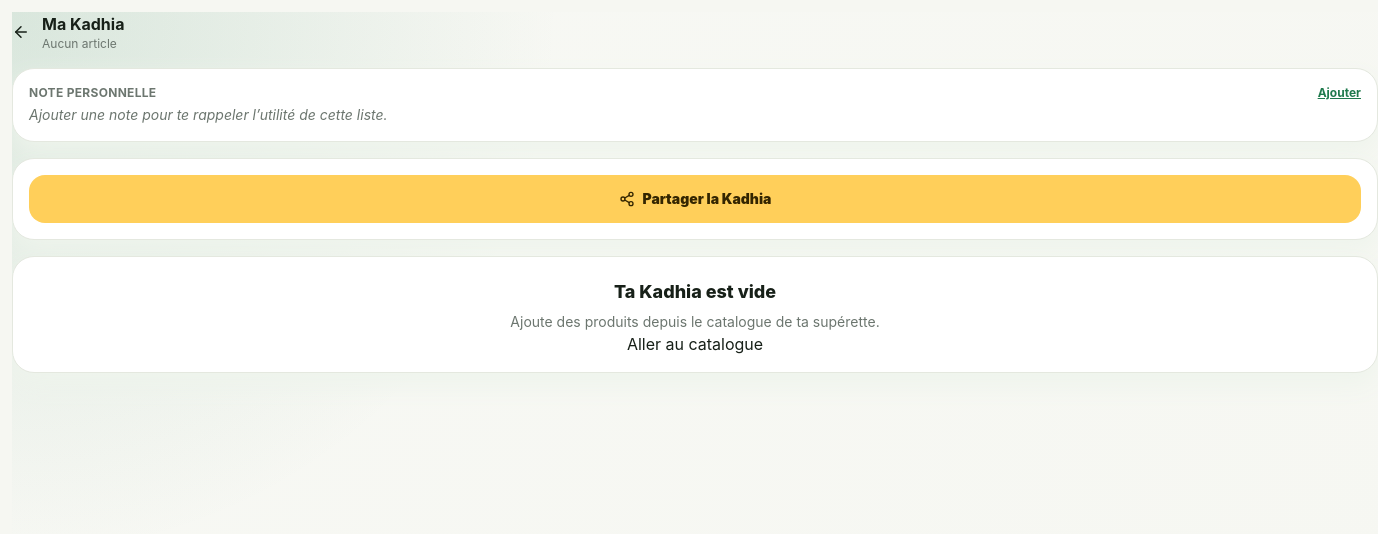
Test: KadhiaDetailPage — note personnelle › affiche une erreur si la sauvegarde échoue
Click the button "Ajouter": [1339, 93] box left=1318, top=85, right=1361, bottom=101
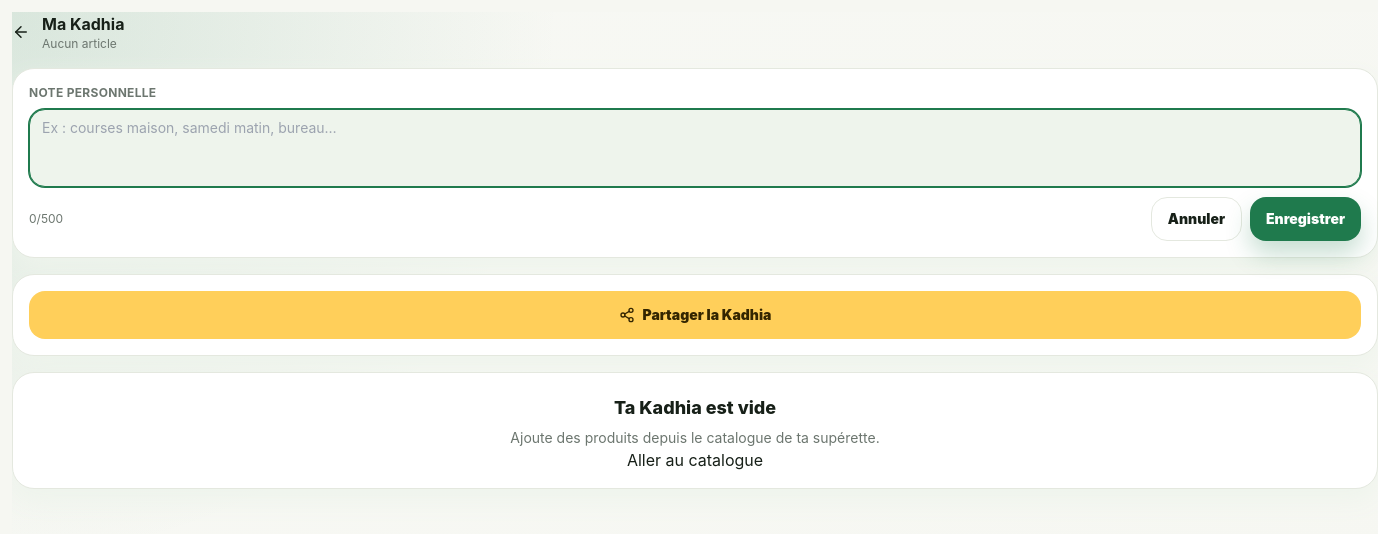
In the text box with placeholder "Ex : courses maison, samedi matin, bureau…": [695, 148] box left=29, top=109, right=1361, bottom=187, type "test"
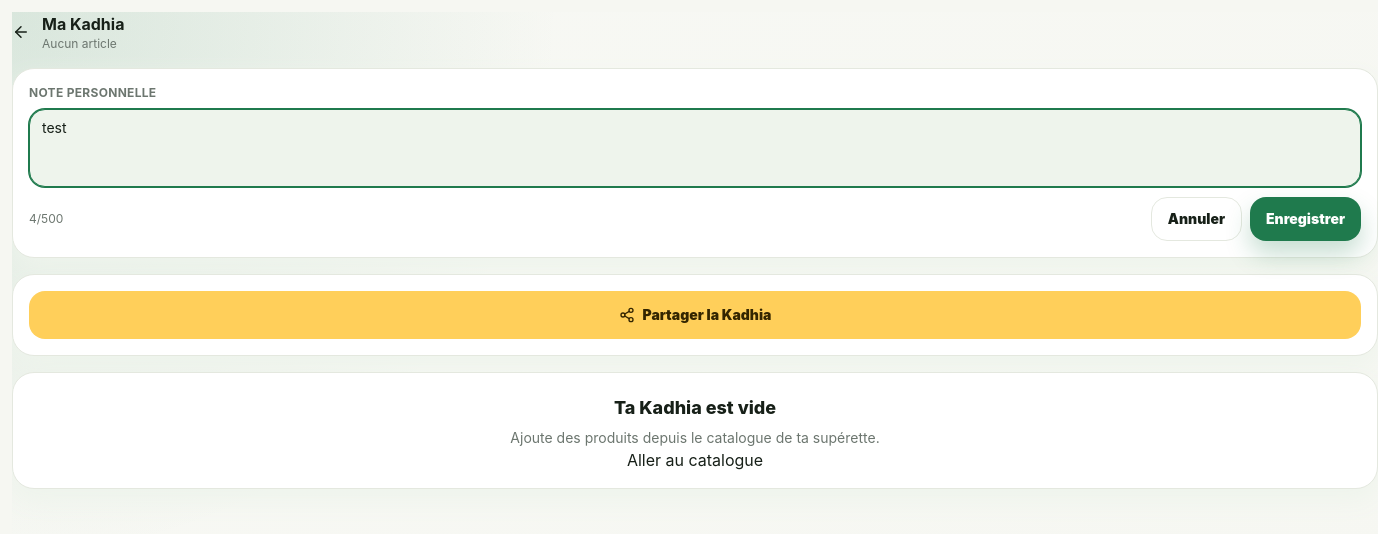
Click the button "Enregistrer": [1306, 219] box left=1250, top=197, right=1361, bottom=241
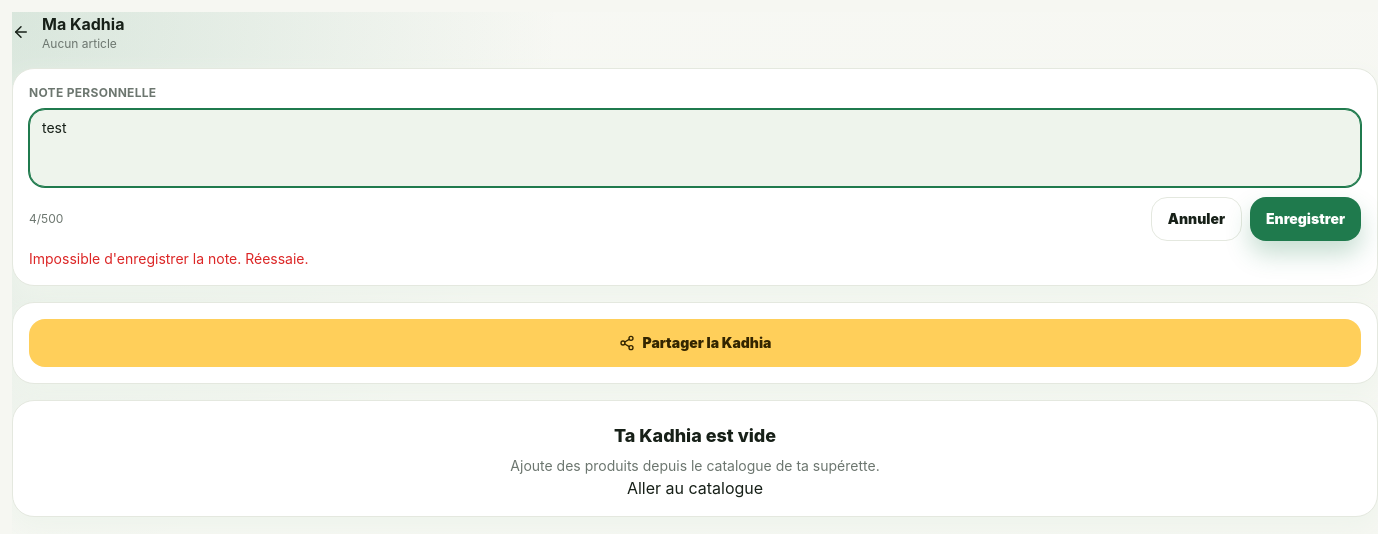
Check: the text "Impossible d'enregistrer la note. Réessaie." is shown, box left=29, top=250, right=309, bottom=267
